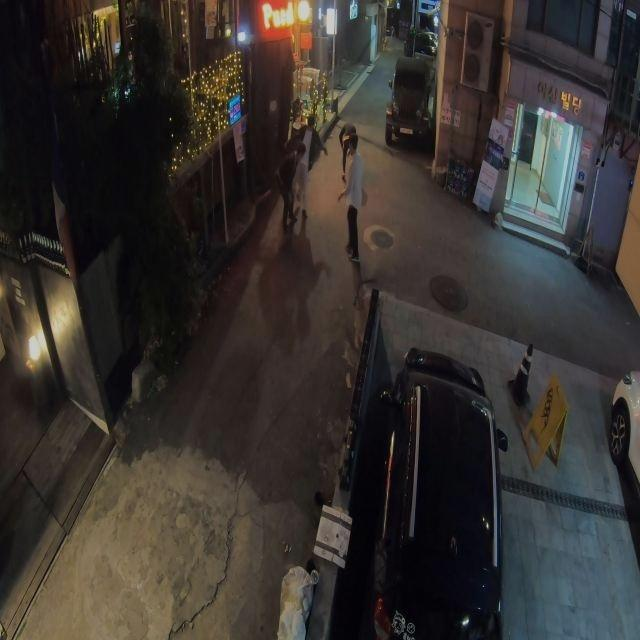fight: (272, 112, 327, 234)
non-fight: (335, 131, 367, 260)
